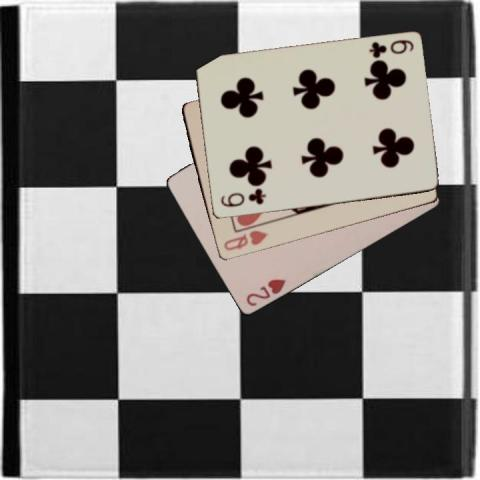2h: (243, 276, 286, 309)
6c: (366, 37, 415, 60), (217, 186, 267, 208)
Qh: (221, 227, 269, 253)
